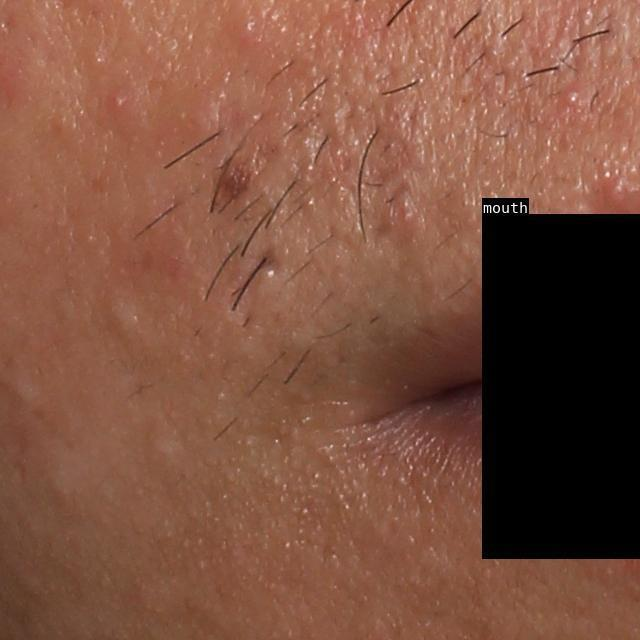comedo: (102, 283, 153, 339), (2, 371, 42, 405), (108, 91, 128, 115), (563, 89, 583, 108)
